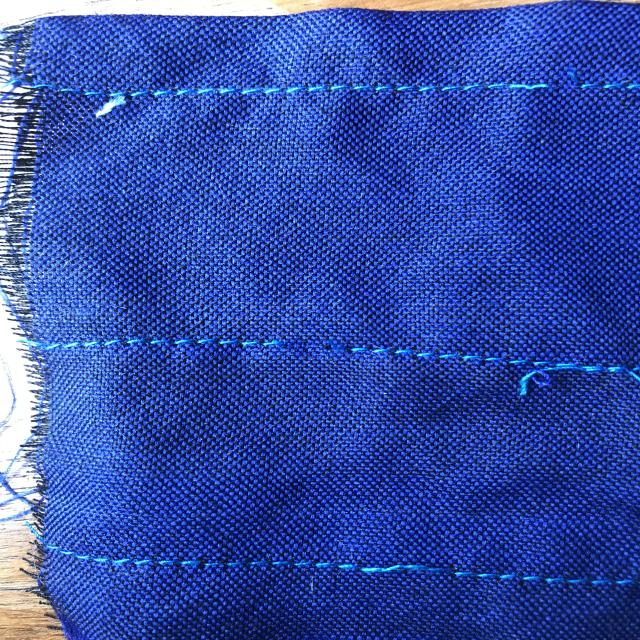broken: (232, 310, 404, 386)
